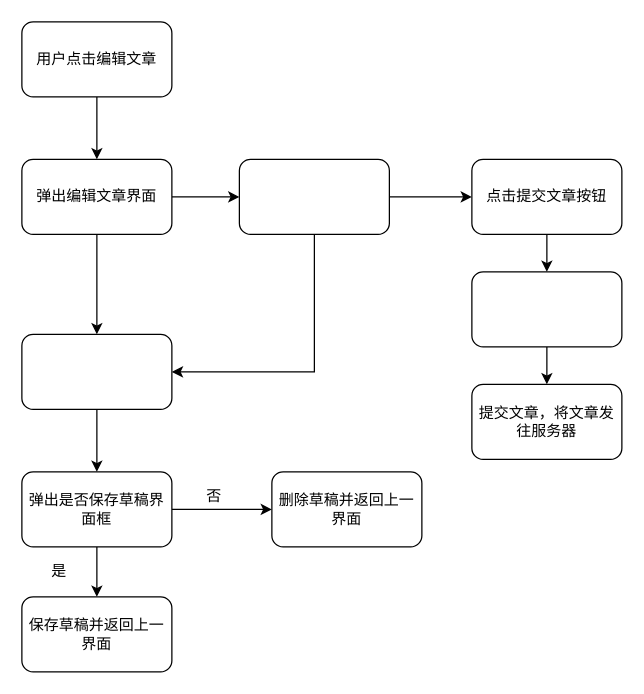
Image size: 644x694. Some labels were removed from this diagram. The centre of each missing label's shape, as x and y in pixels:
"点击退出编辑按钮" belongs at (96,371).
"输入文章信息" belongs at (313,196).
"选择文章所属类别" belongs at (546,309).
